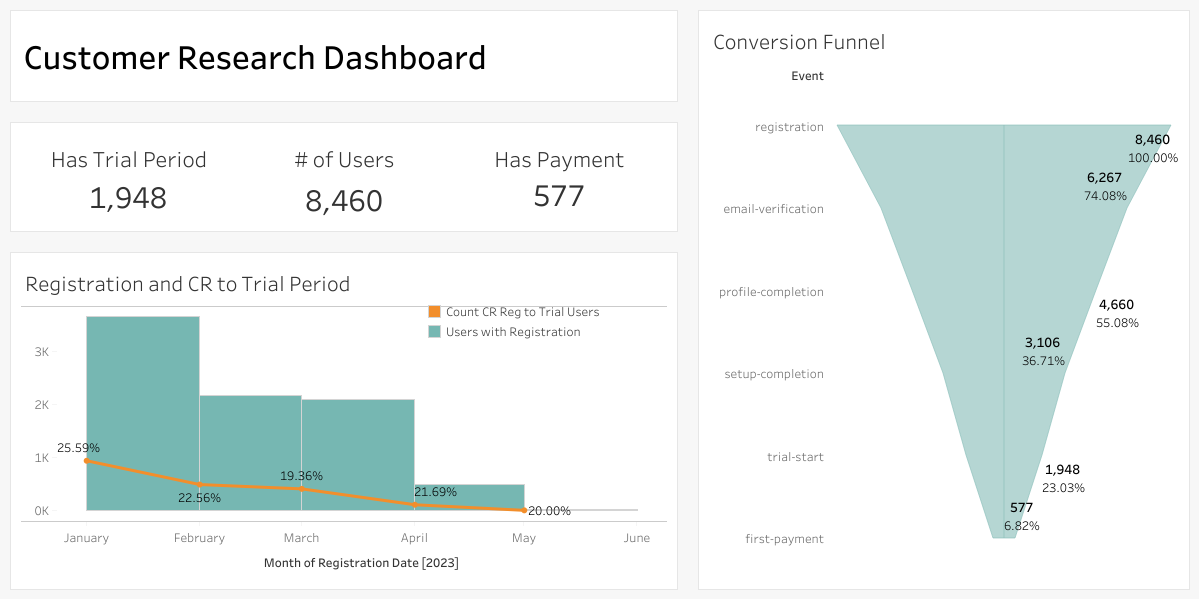

The dashboard page shown, as its layout file describes it:
{"tool":"tableau","page":{"name":"Dashboard 1","canvas":[1200,600],"ordinal":0},"visuals":[{"type":"text","box":[0,0,688,112]},{"type":"worksheet","title":"Conversion Funnel","mark":"Area","rows":["event"],"cols":["Calculation_1055599561965584","Calculation_1055599561965584"],"box":[688,0,512,600]},{"type":"worksheet","title":"Has Trial Period","mark":"Automatic","box":[21,133,216,88]},{"type":"worksheet","title":"# of Users","mark":"Automatic","box":[237,133,215,88]},{"type":"worksheet","title":"Has Payment","mark":"Automatic","box":[452,133,215,88]},{"type":"worksheet","title":"Registration and CR to Trial Period","mark":"Automatic","rows":["Calculation_1055599557804045","Calculation_1055531726168097"],"cols":["Calculation_1055531719319559"],"box":[0,242,688,358]},{"type":"legend","title":"Registration and CR to Trial Period","param":"[federated.0dsawnb1fse1w816m5hlf145edu0].[:Measure Names]","box":[424,301,211,61]}]}

Visuals, with their boxes in screenshot pixels (x1, y1, x2, y2), scaled from the page's 1200x600 canvas onto the 1199x599 screenshot:
text: x1=0 y1=0 x2=687 y2=112
"Conversion Funnel" worksheet (Area marks): x1=687 y1=0 x2=1198 y2=598
"Has Trial Period" worksheet: x1=21 y1=133 x2=237 y2=221
"# of Users" worksheet: x1=237 y1=133 x2=452 y2=221
"Has Payment" worksheet: x1=452 y1=133 x2=666 y2=221
"Registration and CR to Trial Period" worksheet: x1=0 y1=242 x2=687 y2=598
"Registration and CR to Trial Period" legend: x1=424 y1=300 x2=634 y2=361
